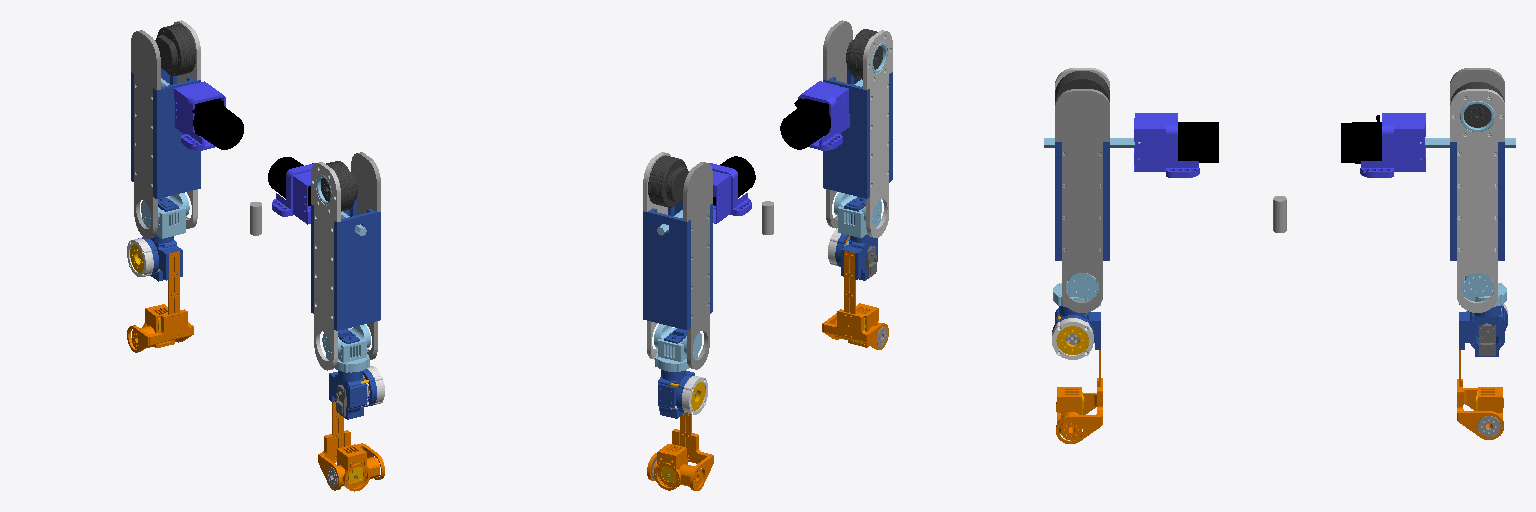
URDF robot description (humanoid):
<?xml version="1.0"?>
<robot xmlns:xacro="http://www.ros.org/wiki/xacro" name="humanoid">


    <!-- MATERIALS -->
    <material name="grey">
        <color rgba="0.7 0.7 0.7 1"/>
    </material>


    <!--word link or base link-->
    <link name="base_link"> 
        <origin xyz="0 0 0" rpy="0 0 0"/>
    </link>


    <!-- BODY -->
    <link name="body_link">
        <visual>
            <geometry>
                <cylinder radius="0.1" length="0.5"/>
            </geometry>
            <material name="grey"/>
            <origin xyz="0 0 -0.25" rpy="0 0 0"/>
        </visual>
    </link>

    <joint name="base_body_joint" type="fixed">
        <parent link="base_link"/>
        <child link="body_link"/>
        <origin xyz="0 0 0.5" rpy="0 0 0"/>
    </joint>


    <!-- shoulder_base_joint_right -->
    <link name="right_shoulder_base_link">
        <visual>
            <geometry>
                <mesh filename="package://humanoid_controller/resource/meshes/Base.dae" scale="10 10 10"/>
            </geometry> 
            <origin xyz="0 0 0" rpy="0 0 0"/>
        </visual>
    </link>

    <joint name="shoulder_base_joint_right" type="fixed">
        <parent link="body_link"/>
        <child link="right_shoulder_base_link"/>
        <origin xyz="0 -1.5 0" rpy="0 0 -1.5708"/>
    </joint>


    <!-- shoulder_roll_right_joint-->
    <link name="right_shoulder_link">
        <visual>
            <geometry>
                <mesh filename="package://humanoid_controller/resource/meshes/Shoulder_pitch.dae" scale="10 10 10"/>
            </geometry>
            <origin xyz=" 0.36230 -0.0007 -0.3878" rpy="0 0 0"/>
        </visual>
    </link>

    <joint name="shoulder_roll_right_joint" type="continuous">
        <axis xyz="0 0 1"/>
        <parent link="right_shoulder_base_link"/>
        <child link="right_shoulder_link"/>
        <origin xyz="0 0 0.9432" rpy="0 0 0"/>
    </joint>


    <!-- shoulder_pitch_right_joint-->
    <link name="right_upper_arm_link">
        <visual>
            <geometry>
                <mesh filename="package://humanoid_controller/resource/meshes/Elbow_URDF.dae" scale="10 10 10"/>
            </geometry>
            <origin xyz="0 0.36230 0" rpy="0 0 0"/>
        </visual>
    </link>

    <joint name="shoulder_pitch_right_joint" type="continuous">
        <axis xyz="0.0 1 0.0"/>
        <parent link="right_shoulder_link"/>
        <child link="right_upper_arm_link"/>
        <origin xyz="1.3599 0 0" rpy="0 1.5708 -1.5708"/>
    </joint>


    <!-- bicep_right_joint-->
    <link name="elbow_right_link">
        <visual>
            <geometry>
                <mesh filename="package://humanoid_controller/resource/meshes/ForeArm_joint_roll.dae" scale="10 10 10"/>
            </geometry>
            <origin xyz="0.3193 -0.1 0" rpy="0 0 0"/>
        </visual>
    </link>

    <joint name="bicep_right_joint" type="continuous">
        <axis xyz="0 0 1"/>
        <parent link="right_upper_arm_link"/>
        <child link="elbow_right_link"/>
        <origin xyz="2.2072 0 0" rpy="3.14159 0 0"/>
    </joint>


    <!-- forearm_roll_right_joint-->
    <link name="forearm_right_link">
        <visual>
            <geometry>
                <mesh filename="package://humanoid_controller/resource/meshes/ForeArmLink1.dae" scale="10 10 10"/>
            </geometry>
            <origin xyz="0 0 0" rpy="0 0 0"/>
        </visual>
    </link>

    <joint name="forearm_roll_right_joint" type="continuous">
        <axis xyz="1 0 0"/>
        <parent link="elbow_right_link"/>
        <child link="forearm_right_link"/>
        <origin xyz="0.3193 -0.1 0" rpy="1.5708 0 0"/>
    </joint>


    <!-- wrist_flexion_right_joint-->
    <link name="wrist_right_link">
        <visual>
            <geometry>
                <mesh filename="package://humanoid_controller/resource/meshes/Forearm_Joint2.dae" scale="10 10 10"/>
            </geometry>
            <origin xyz="-0.3850 0 -0.15" rpy="0 0 0"/>
        </visual>
    </link>

    <joint name="wrist_flexion_right_joint" type="continuous">
        <axis xyz="0 1 0"/>
        <parent link="forearm_right_link"/>
        <child link="wrist_right_link"/>
        <origin xyz="1.8496 0 0.016" rpy="0 0 0"/>
    </joint>  


    <!-- LEFT SIDE -->


    <!-- shoulder_base_joint_left -->
    <link name="left_shoulder_base_link">
        <visual>
            <geometry>
                <mesh filename="package://humanoid_controller/resource/meshes/Base.dae" scale="10 10 10"/>
            </geometry> 
            <origin xyz="0 0 0" rpy="0 0 0"/>
        </visual>
    </link>

    <joint name="shoulder_base_joint_left" type="fixed">
        <parent link="body_link"/>
        <child link="left_shoulder_base_link"/>
        <origin xyz="0 1.5 0" rpy="0 0 1.5708"/>
    </joint>


    <!-- shoulder_roll_left_joint-->
    <link name="left_shoulder_link">
        <visual>
            <geometry>
                <mesh filename="package://humanoid_controller/resource/meshes/Shoulder_pitch.dae" scale="10 10 10"/>
            </geometry>
            <origin xyz=" 0.36230 -0.0007 -0.3878" rpy="0 0 0"/>
        </visual>
    </link>

    <joint name="shoulder_roll_left_joint" type="continuous">
        <axis xyz="0 0 1"/>
        <parent link="left_shoulder_base_link"/>
        <child link="left_shoulder_link"/>
        <origin xyz="0 0 0.9432" rpy="0 0 0"/>
    </joint>


    <!-- shoulder_pitch_left_joint-->
    <link name="left_upper_arm_link">
        <visual>
            <geometry>
                <mesh filename="package://humanoid_controller/resource/meshes/Elbow_URDF.dae" scale="10 10 10"/>
            </geometry>
            <origin xyz="0 0.36230 0" rpy="0 0 0"/>
        </visual>
    </link>

    <joint name="shoulder_pitch_left_joint" type="continuous">
        <axis xyz="0.0 1 0.0"/>
        <parent link="left_shoulder_link"/>
        <child link="left_upper_arm_link"/>
        <origin xyz="1.3599 0 0" rpy="0 1.5708 -1.5708"/>
    </joint>


    <!-- bicep_left_joint-->
    <link name="elbow_left_link">
        <visual>
            <geometry>
                <mesh filename="package://humanoid_controller/resource/meshes/ForeArm_joint_roll.dae" scale="10 10 10"/>
            </geometry>
            <origin xyz="0.3193 -0.1 0" rpy="0 0 0"/>
        </visual>
    </link>

    <joint name="bicep_left_joint" type="continuous">
        <axis xyz="0 0 1"/>
        <parent link="left_upper_arm_link"/>
        <child link="elbow_left_link"/>
        <origin xyz="2.2072 0 0" rpy="3.14159 0 0"/>
    </joint>


    <!-- forearm_roll_left_joint-->
    <link name="forearm_left_link">
        <visual>
            <geometry>
                <mesh filename="package://humanoid_controller/resource/meshes/ForeArmLink1.dae" scale="10 10 10"/>
            </geometry>
            <origin xyz="0 0 0" rpy="0 0 0"/>
        </visual>
    </link>

    <joint name="forearm_roll_left_joint" type="continuous">
        <axis xyz="1 0 0"/>
        <parent link="elbow_left_link"/>
        <child link="forearm_left_link"/>
        <origin xyz="0.3193 -0.1 0" rpy="1.5708 0 0"/>
    </joint>


    <!-- wrist_flexion_left_joint-->
    <link name="wrist_left_link">
        <visual>
            <geometry>
                <mesh filename="package://humanoid_controller/resource/meshes/Forearm_Joint2.dae" scale="10 10 10"/>
            </geometry>
            <origin xyz="-0.3850 0 -0.15" rpy="0 0 0"/>
        </visual>
    </link>

    <joint name="wrist_flexion_left_joint" type="continuous">
        <axis xyz="0 1 0"/>
        <parent link="forearm_left_link"/>
        <child link="wrist_left_link"/>
        <origin xyz="1.8496 0 0.016" rpy="0 0 0"/>
    </joint>  

</robot>

--- Render facts (derived) ---
The picture shows the robot from 3 angles, left to right: view 1: azimuth 30°, elevation 25°; view 2: azimuth 150°, elevation 25°; view 3: azimuth 270°, elevation 25°; orthographic projection.
Robot: humanoid — 14 links, 13 joints (10 continuous, 3 fixed); root link base_link; default pose: all joints at 0.
Visible links, largest first — view 1: right_upper_arm_link, left_upper_arm_link, forearm_left_link, forearm_right_link, left_shoulder_link, right_shoulder_link, elbow_right_link, wrist_right_link, elbow_left_link, wrist_left_link; view 2: left_upper_arm_link, right_upper_arm_link, forearm_right_link, right_shoulder_link, forearm_left_link, left_shoulder_link, elbow_left_link, wrist_left_link, elbow_right_link, wrist_right_link; view 3: right_upper_arm_link, left_upper_arm_link, left_shoulder_link, right_shoulder_link, forearm_left_link, forearm_right_link, wrist_right_link, elbow_right_link, elbow_left_link, wrist_left_link.
Link boxes in pixels (box(x1,y1,x2,y2)): right_upper_arm_link: box(311, 152, 380, 370); left_upper_arm_link: box(131, 20, 200, 238); forearm_left_link: box(127, 235, 193, 352); forearm_right_link: box(318, 366, 384, 490); left_shoulder_link: box(161, 78, 243, 150); right_shoulder_link: box(268, 157, 366, 235); elbow_right_link: box(322, 324, 370, 372); wrist_right_link: box(337, 444, 379, 491); elbow_left_link: box(141, 193, 189, 238); wrist_left_link: box(132, 304, 179, 348); left_upper_arm_link: box(643, 152, 712, 369); right_upper_arm_link: box(823, 20, 892, 237); forearm_right_link: box(822, 229, 888, 349); right_shoulder_link: box(780, 79, 862, 150); forearm_left_link: box(647, 370, 713, 490); left_shoulder_link: box(657, 156, 755, 235); elbow_left_link: box(654, 324, 701, 371); wrist_left_link: box(654, 444, 702, 490); elbow_right_link: box(834, 192, 881, 237); wrist_right_link: box(835, 303, 878, 347); right_upper_arm_link: box(1055, 68, 1109, 312); left_upper_arm_link: box(1450, 68, 1504, 312); left_shoulder_link: box(1341, 113, 1515, 177); right_shoulder_link: box(1044, 113, 1218, 177); forearm_left_link: box(1457, 304, 1507, 439); forearm_right_link: box(1052, 306, 1102, 443); wrist_right_link: box(1057, 387, 1083, 440); elbow_right_link: box(1053, 273, 1100, 306); elbow_left_link: box(1459, 273, 1506, 306); wrist_left_link: box(1476, 387, 1502, 427).
Size in the robot's own frame: 0.972 by 6.73 by 5.56 metres.
10 mesh visuals loaded from 6 distinct referenced files (5 Collada DAE); not drawn: 2 (reference not matched to a file when rendering).